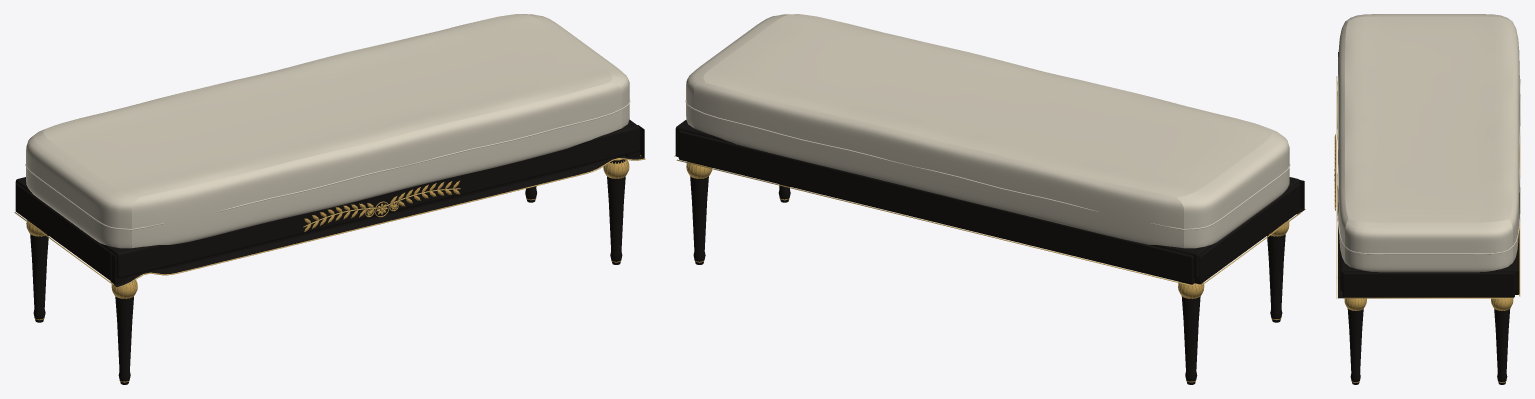
The picture shows the model from 3 angles, left to right: view 1: azimuth 30°, elevation 25°; view 2: azimuth 150°, elevation 25°; view 3: azimuth 270°, elevation 25°; orthographic projection. The views are drawn at different scales.
Parts seen in each view (by area): view 1: Nantes bedroom bench | 50384.0 | bedroom-30 web batch; view 2: Nantes bedroom bench | 50384.0 | bedroom-30 web batch; view 3: Nantes bedroom bench | 50384.0 | bedroom-30 web batch.
Boxes of the visible parts, x1=… form: Nantes bedroom bench | 50384.0 | bedroom-30 web batch: x1=14, y1=14, x2=645, y2=384; Nantes bedroom bench | 50384.0 | bedroom-30 web batch: x1=674, y1=14, x2=1305, y2=384; Nantes bedroom bench | 50384.0 | bedroom-30 web batch: x1=1334, y1=14, x2=1520, y2=384.
Size of the model in its own units: 1.52 by 0.52 by 0.54.
